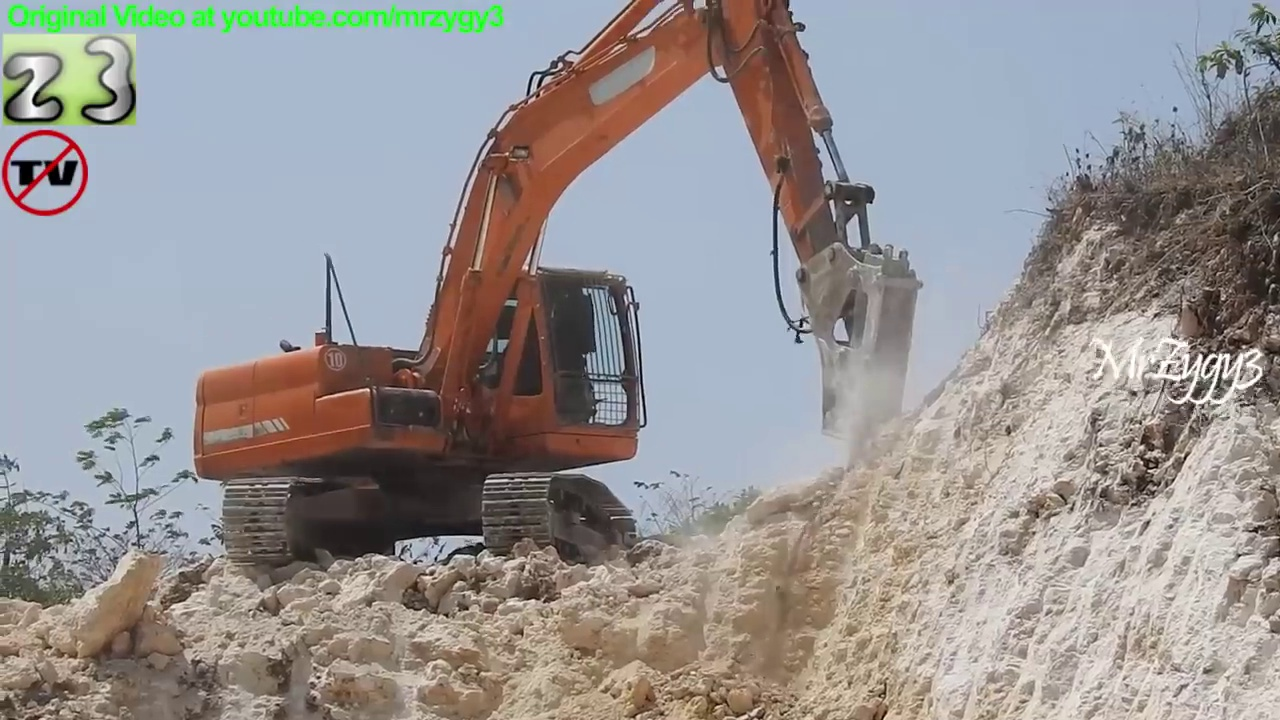truck: (182, 1, 929, 596)
